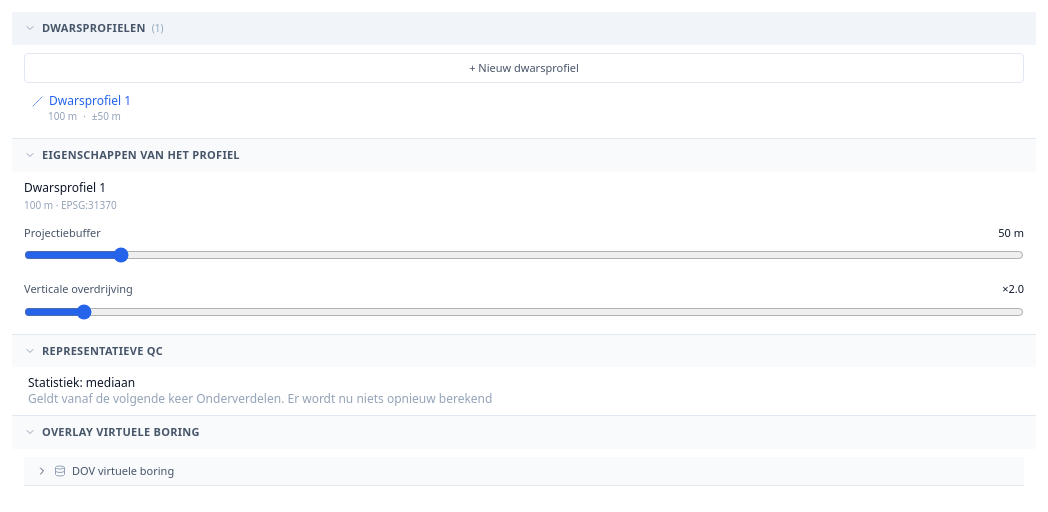
Test: SectionsInspector — renaming a section › R1 — the properties field opens with the name I see (Dwarsprofiel 1), not the English default
The image size is (1048, 512).
Click the button with test id "section-name-edit" at (65, 187), box [24,180,1024,196]
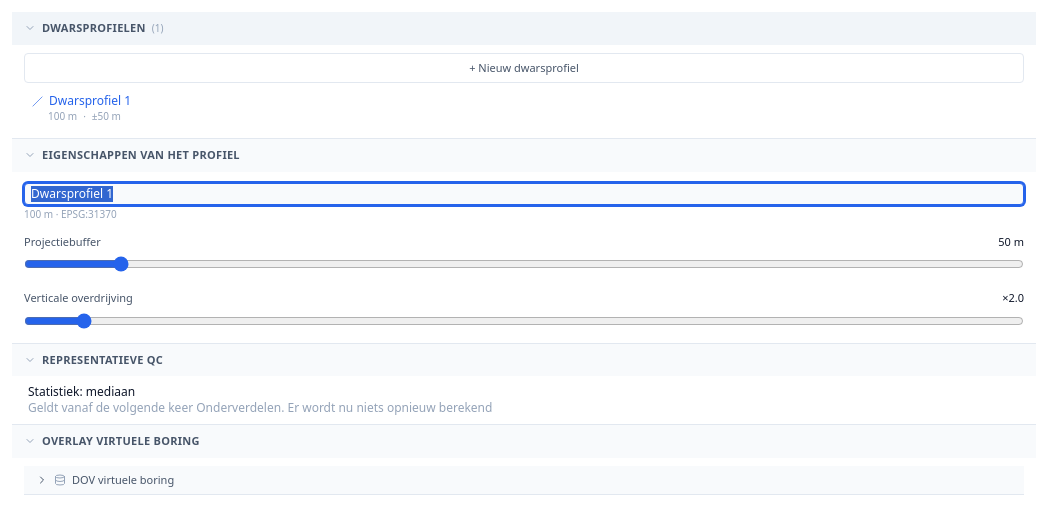
Now the field with test id "section-name-input" holds "Dwarsprofiel 1", box [24,182,1024,204]
